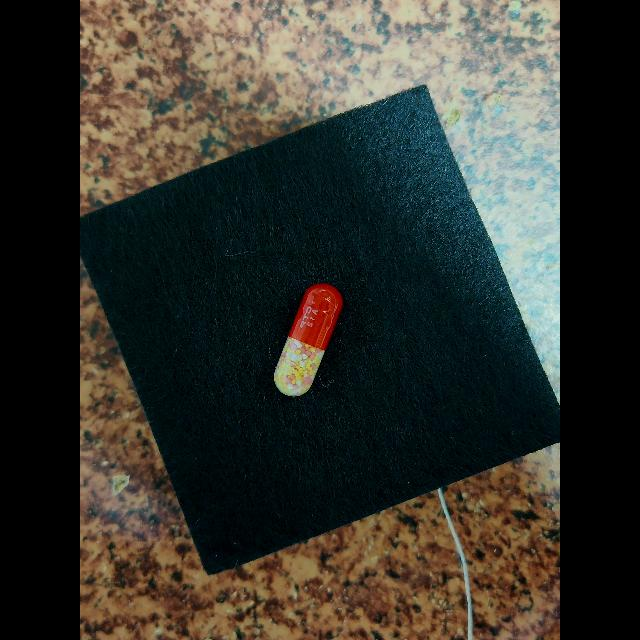Intact Capsule: (274, 283, 343, 396)
